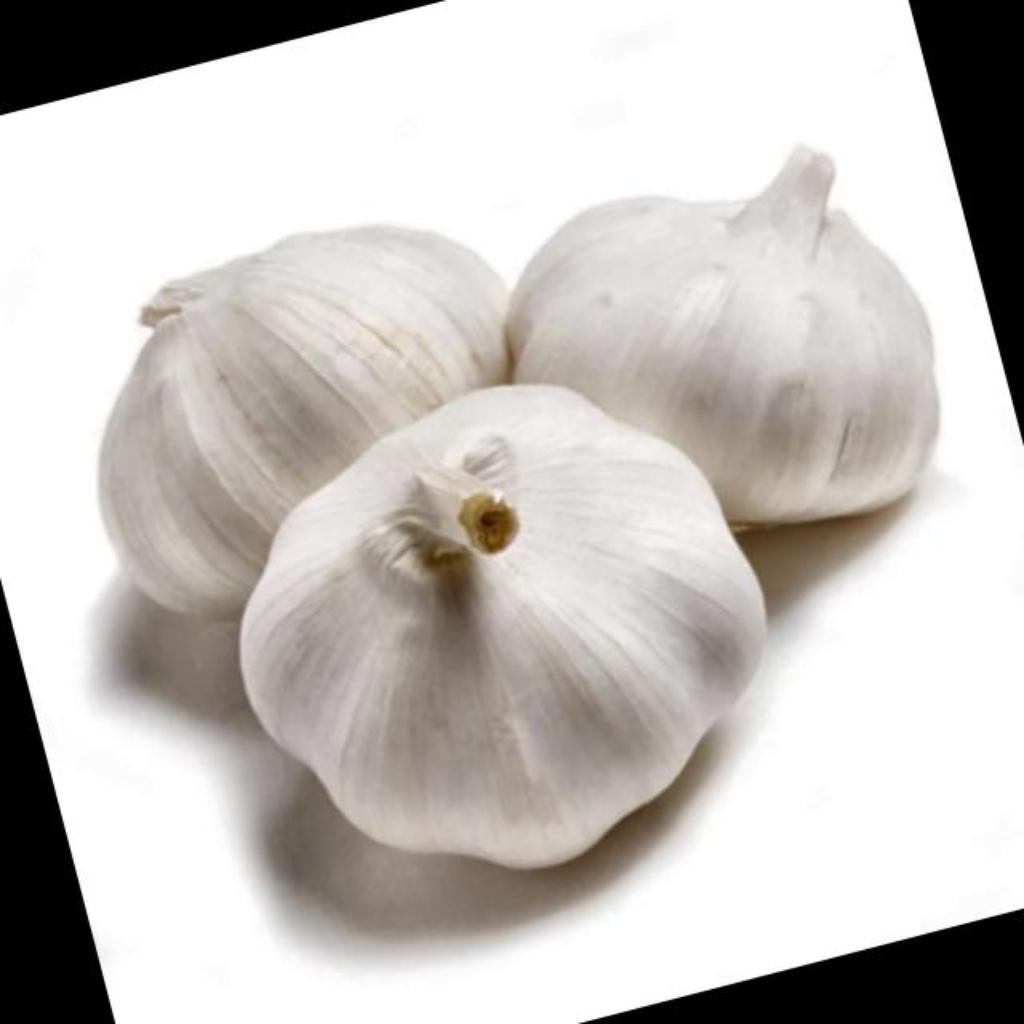garlic: (240, 384, 766, 868), (508, 148, 938, 523), (102, 226, 506, 615)
